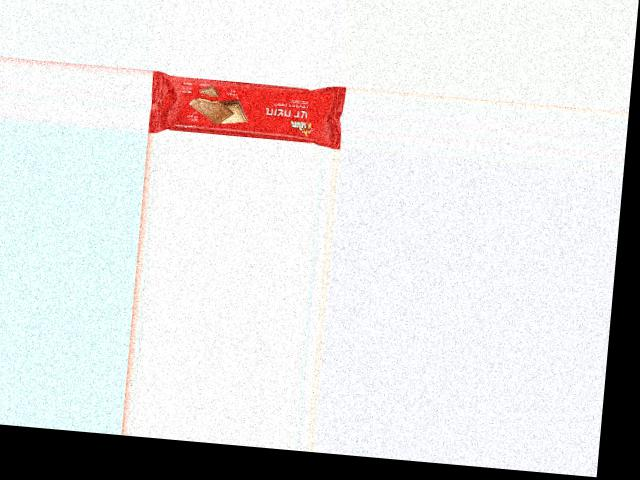chocolate: (150, 68, 341, 149)
